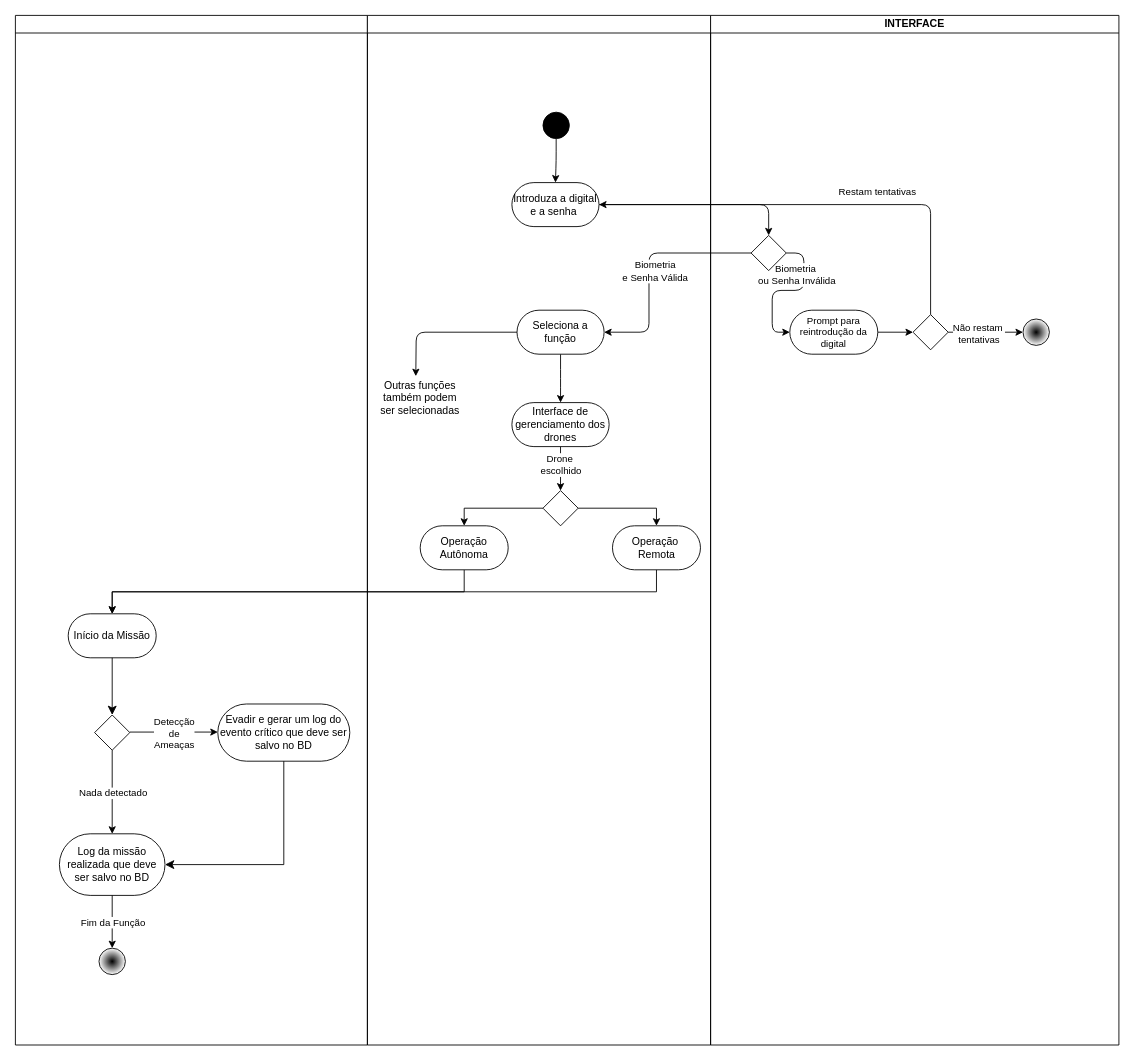
Some shapes in this 1134 by 1060 pixel diagram are drawn without their labels. Each missing label, with the centre of its shape:
"MISSÕES" belongs at point 191,530.
"USUÁRIO" belongs at point 539,530.
